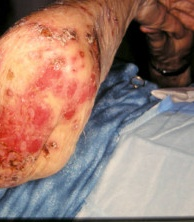SJS-TEN: (0, 0, 158, 208)
